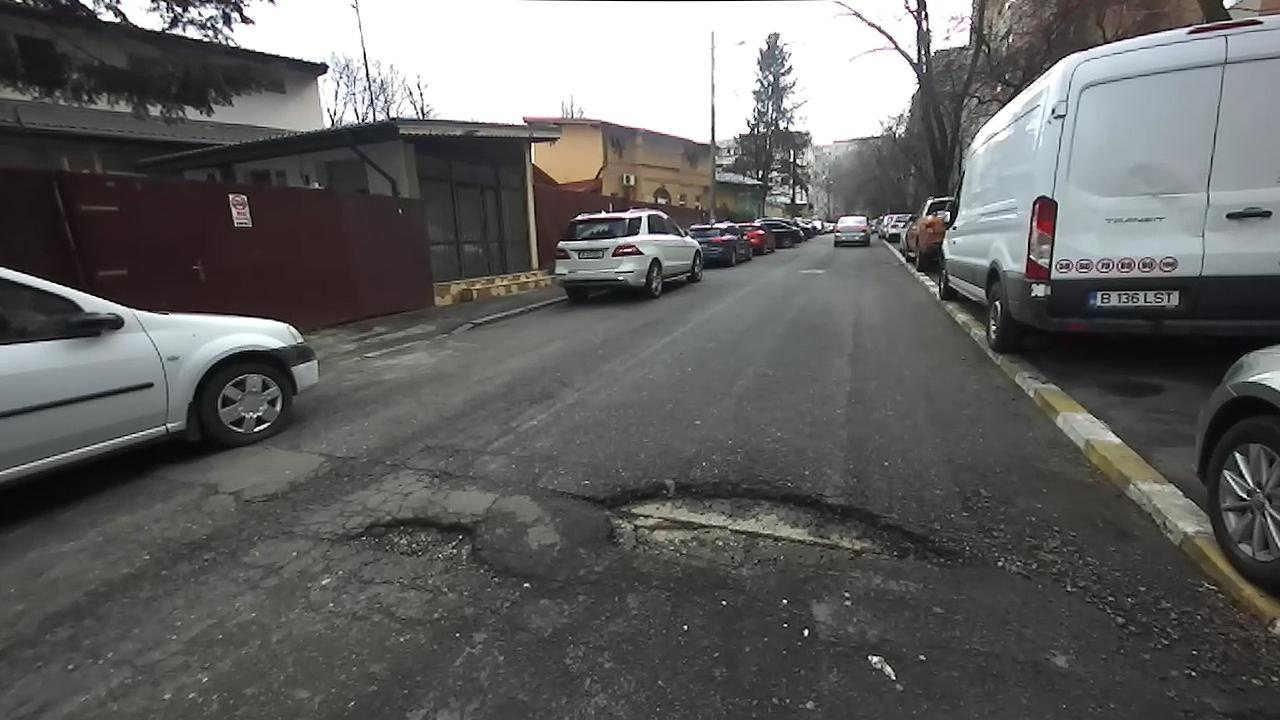pothole: (583, 471, 980, 593), (338, 509, 522, 582)
